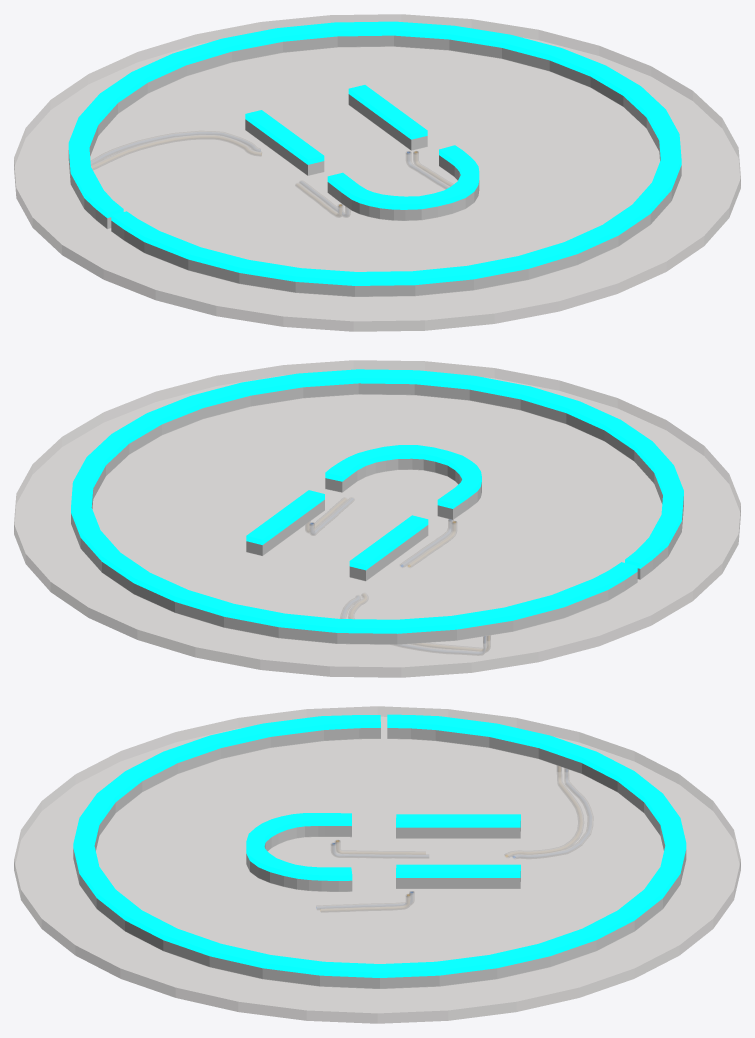
File: smily.glb
3 views of the same model, one above another, from view 1: azimuth 30°, elevation 25°; view 2: azimuth 150°, elevation 25°; view 3: azimuth 270°, elevation 25° (orthographic).
Visible parts, largest first — view 1: Circle.026, Plane.011, Circle.028, Circle.027; view 2: Circle.026, Plane.011, Circle.027, Circle.028; view 3: Circle.026, Plane.011, Circle.027, Circle.028.
Part boxes in pixels (box(x1,y1,x2,y2)): Circle.026: box(14, 14, 740, 331); Plane.011: box(68, 21, 681, 296); Circle.028: box(91, 135, 452, 217); Circle.027: box(91, 131, 449, 217); Circle.026: box(14, 360, 740, 677); Plane.011: box(71, 369, 683, 644); Circle.027: box(309, 497, 486, 655); Circle.028: box(305, 498, 490, 651); Circle.026: box(14, 706, 740, 1023); Plane.011: box(73, 714, 686, 988); Circle.027: box(316, 768, 592, 909); Circle.028: box(320, 766, 583, 911).
Bounding box in the file's own units: 1.18 × 0.0709 × 1.18.
